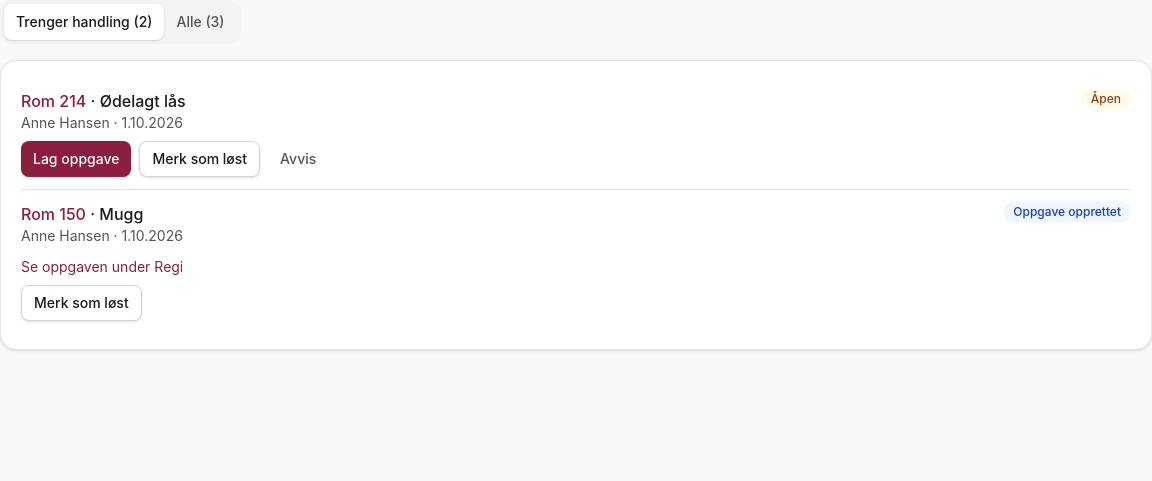
Test: ReportsTab › shows what needs action by default and the rest on request
The width and height of the screenshot is (1152, 481).
Expected: the text "Rom 214 · Ødelagt lås" is shown, [21,89,186,113]
Expected: the text "Rom 150 · Mugg" is shown, [21,204,143,224]
Step 1. Click the radio button labelled "Alle (3)" → (200, 22), box [164,4,236,40]
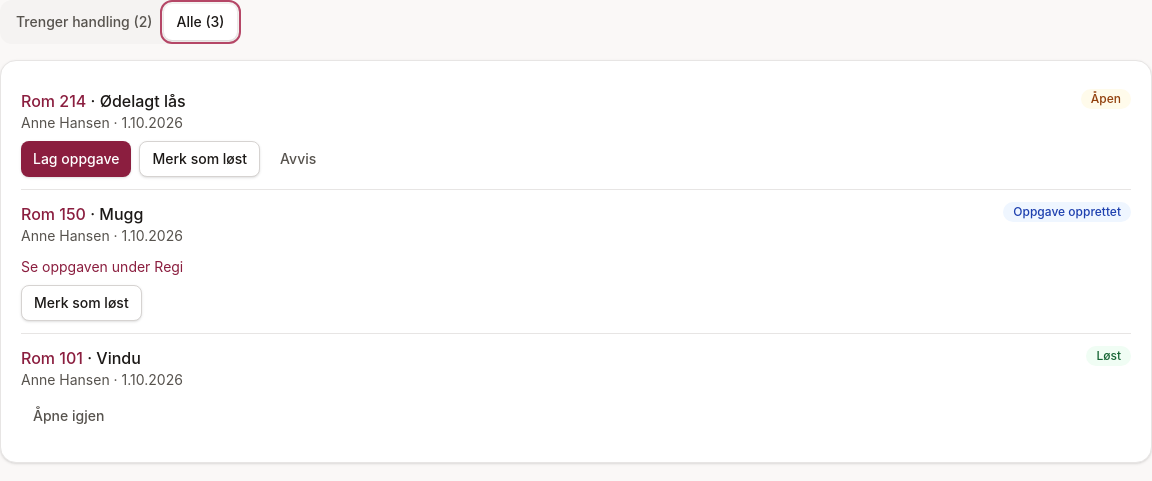
Expected: the text "Rom 101 · Vindu" is shown, [21,348,141,368]
